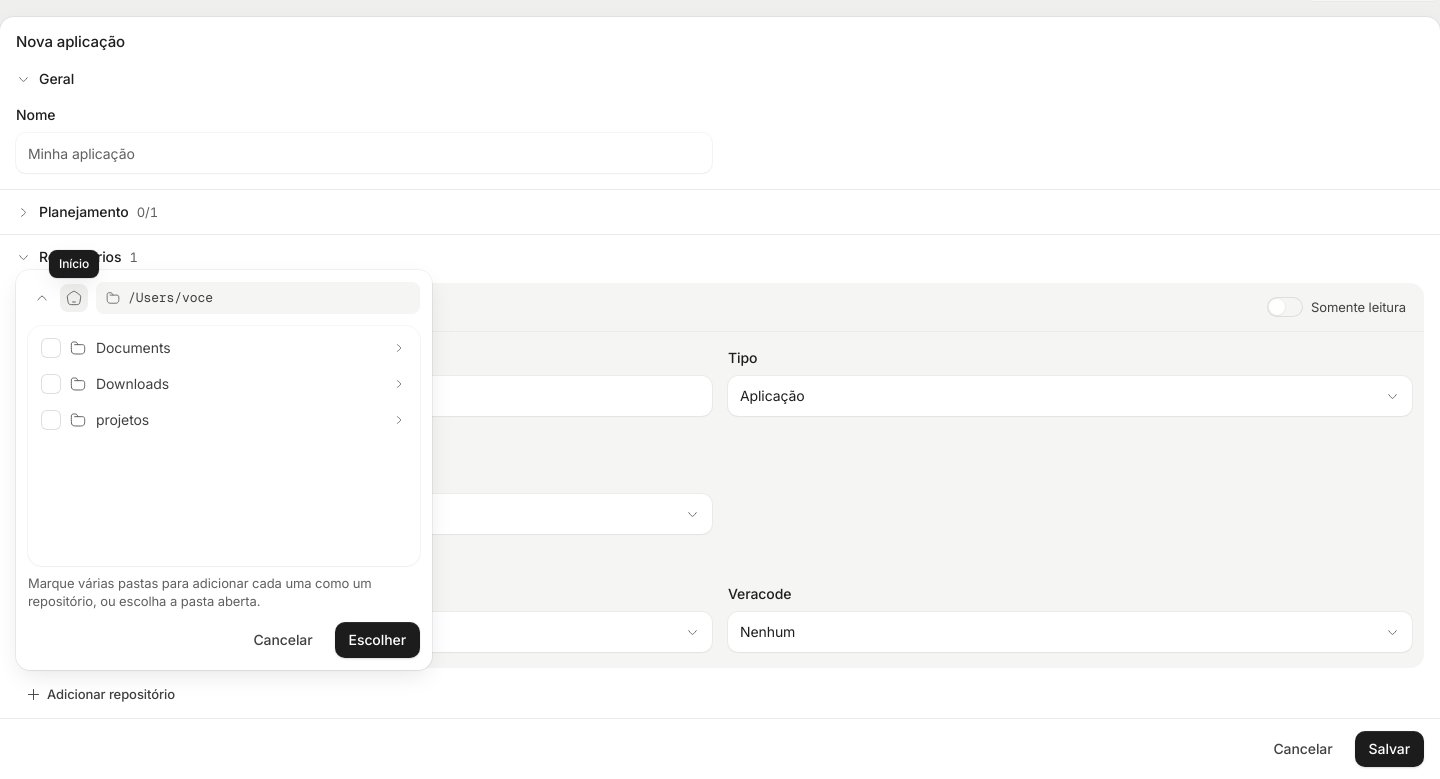
Test: vários repositórios de uma vez › adicionar repositório abre a pasta, cria um por pasta e sugere código, segurança e qualidade pelo nome
The image size is (1440, 779).
Earlier steps of the test are not shown.
Later steps or results of the test are not shown.
Click the button "projetos": x=123, y=420 [64,402,416,438]
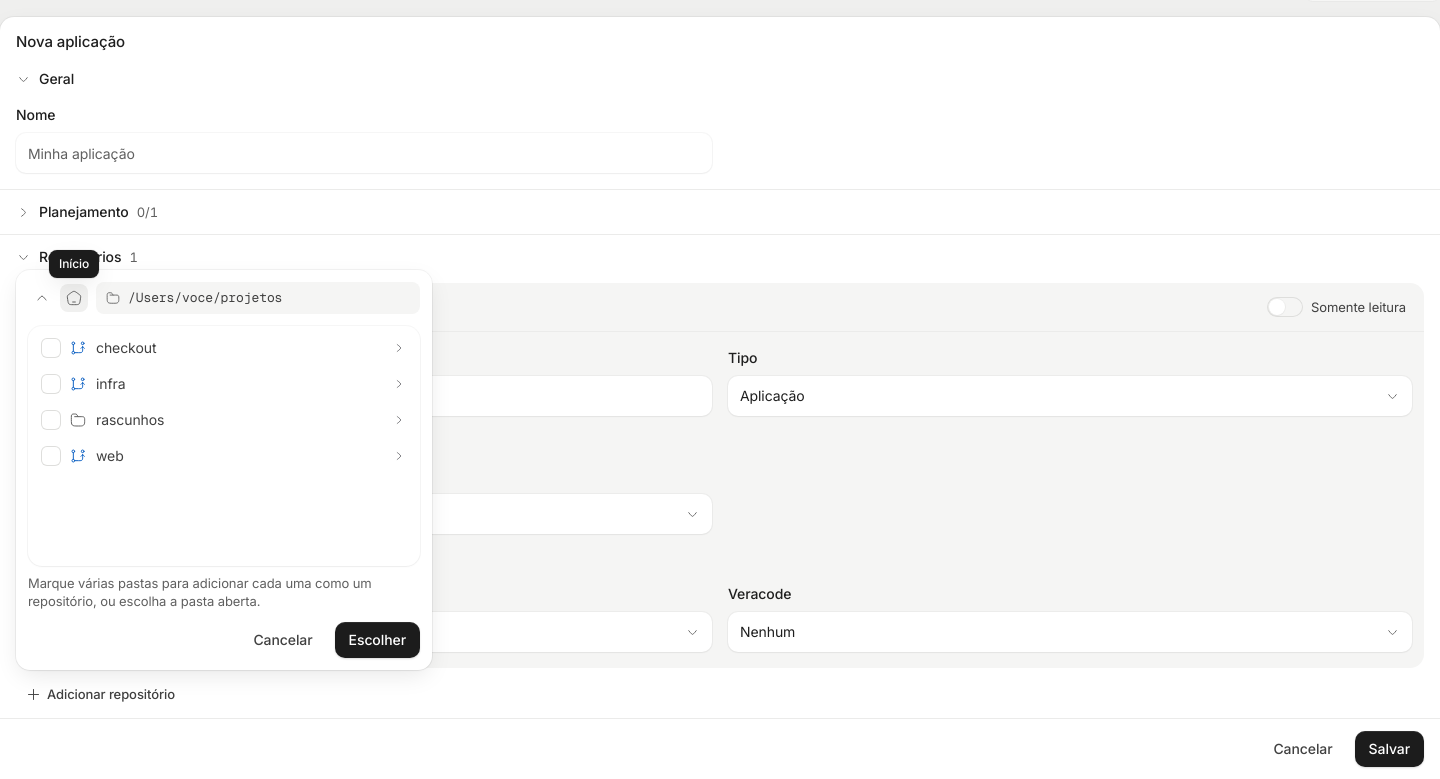
Click the checkbox named "checkout": x=51, y=348 [42,339,60,357]
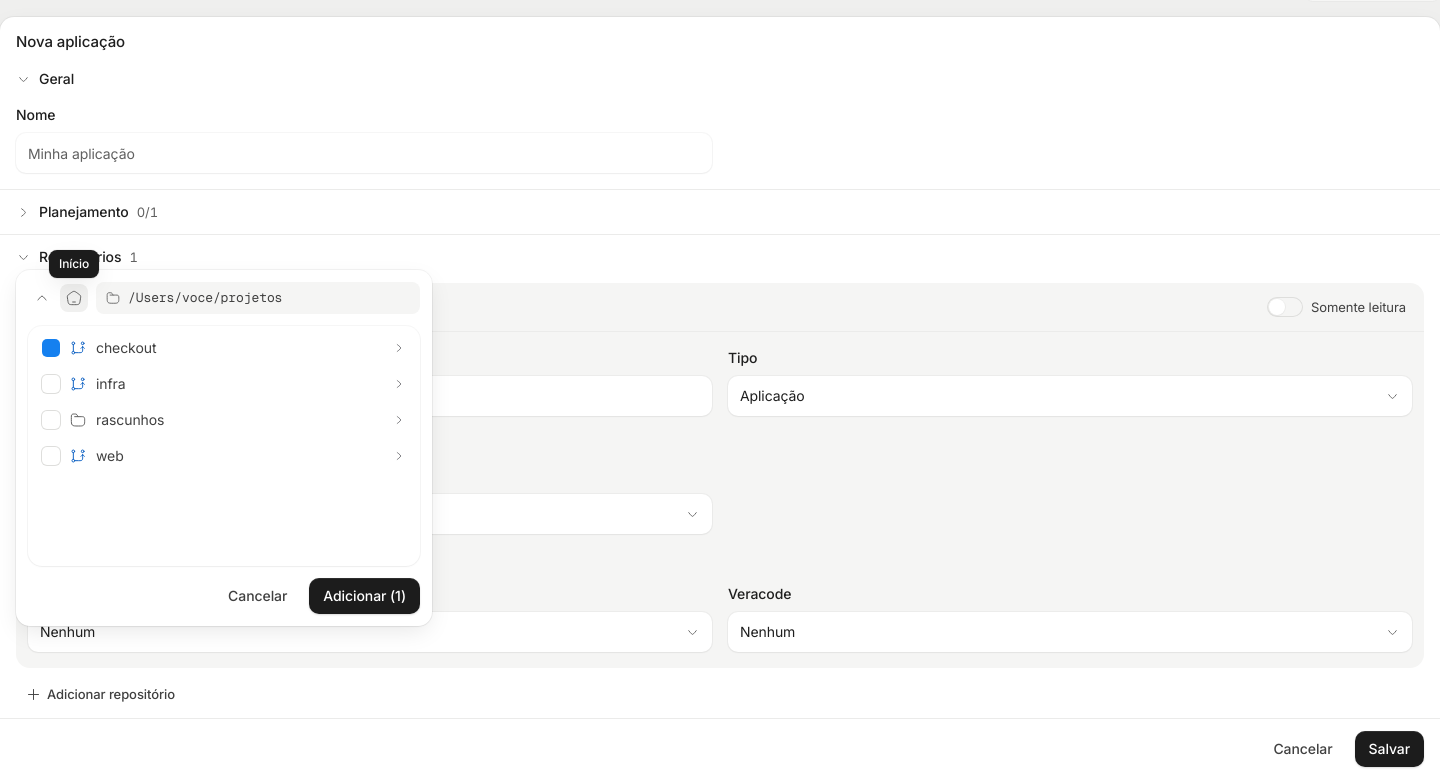
Click the checkbox named "infra": x=51, y=384 [42,375,60,393]
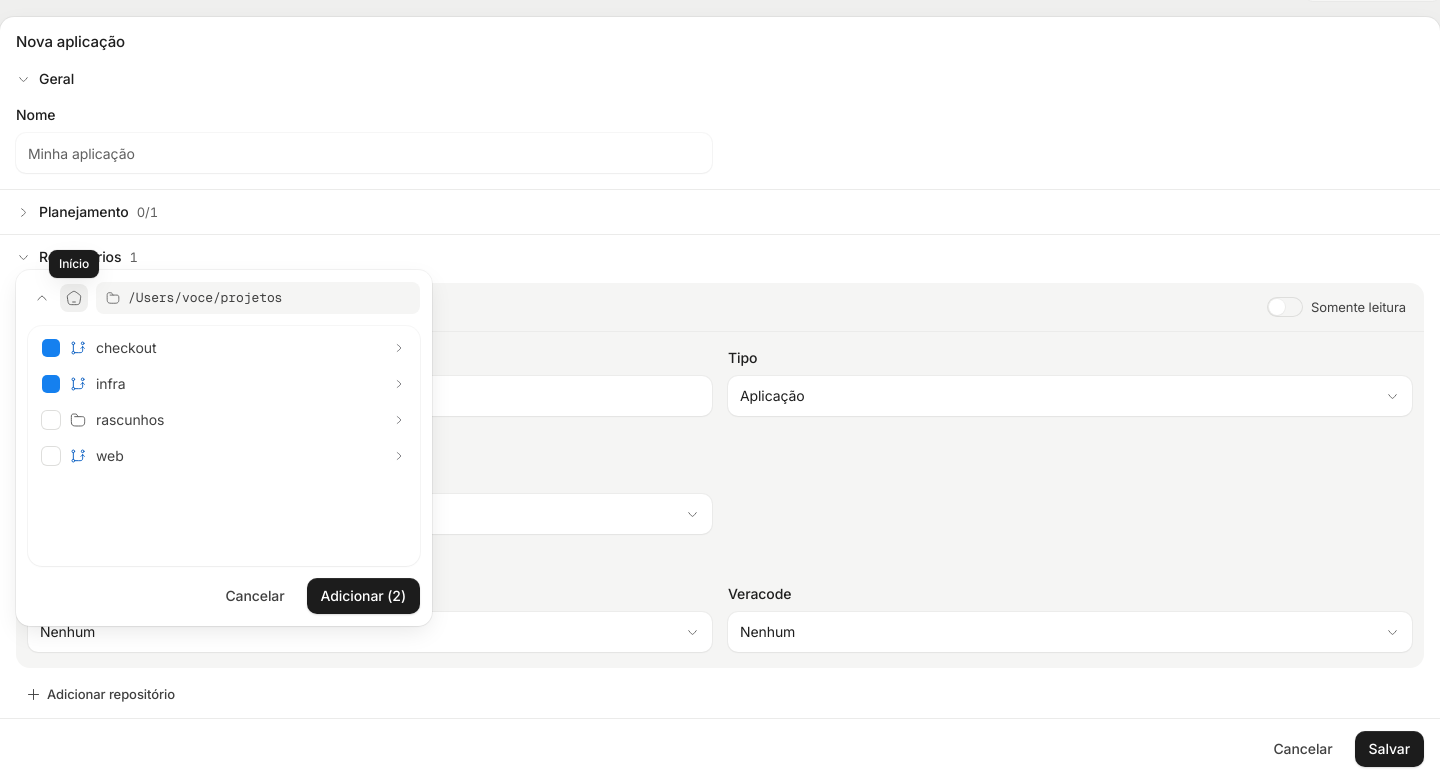
Click the button "Adicionar (2)": x=363, y=596 [306,578,420,614]
(page scrolled)
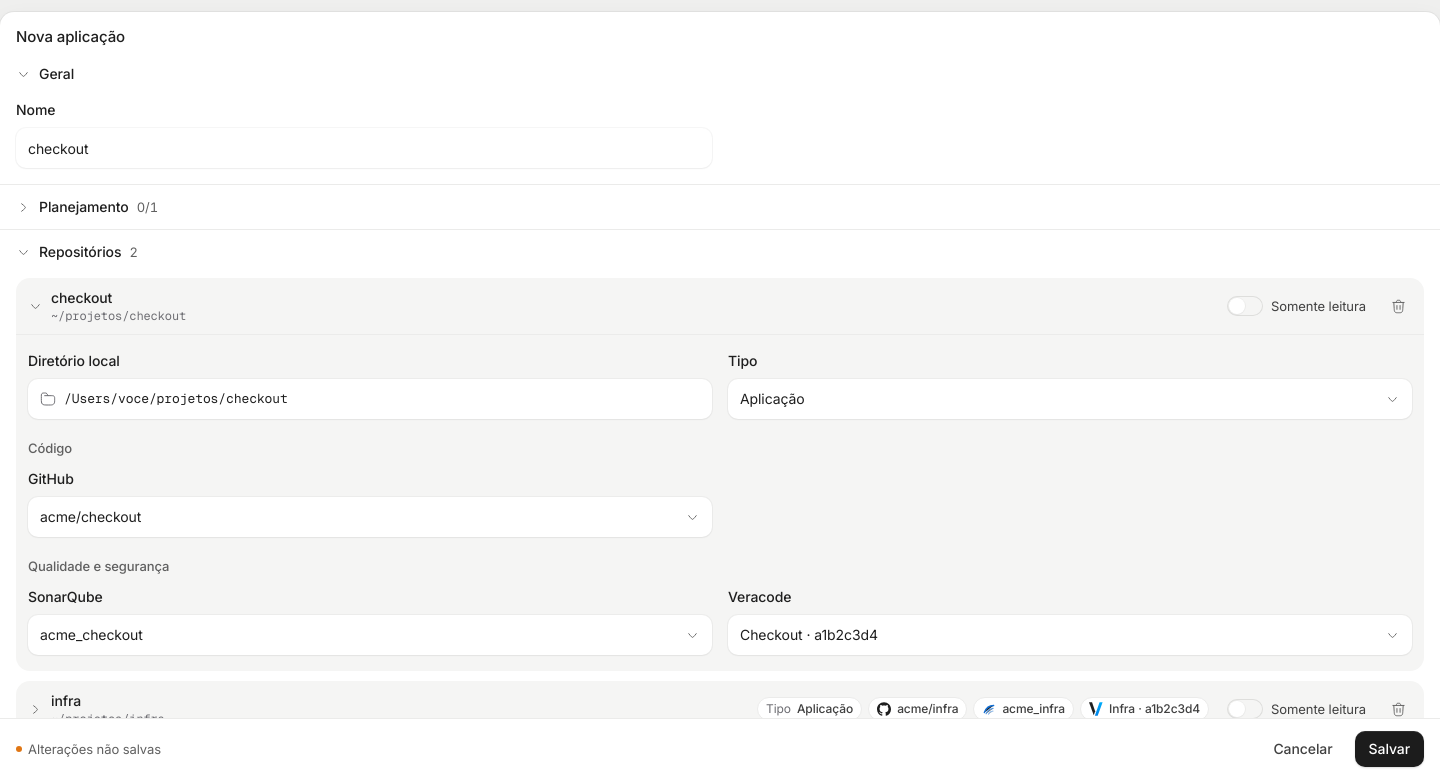
Check: the element with test id "repository-1" is shown, box [16,681,1424,737]
Check: the field labelled "Nome" holds "checkout", box [28,128,700,168]
Check: the dropdown named "Veracode" shows "Checkout", box [728,615,1412,655]
